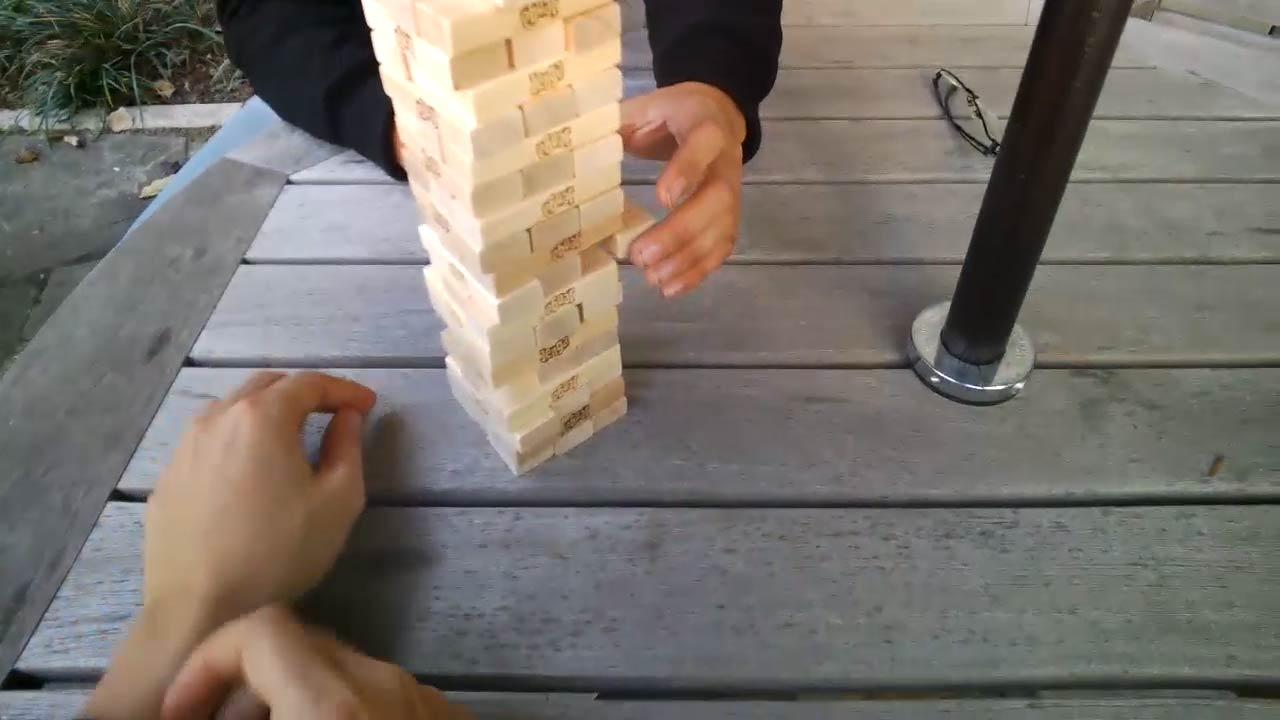hand: (137, 368, 373, 601), (148, 603, 476, 720), (620, 77, 745, 302)
